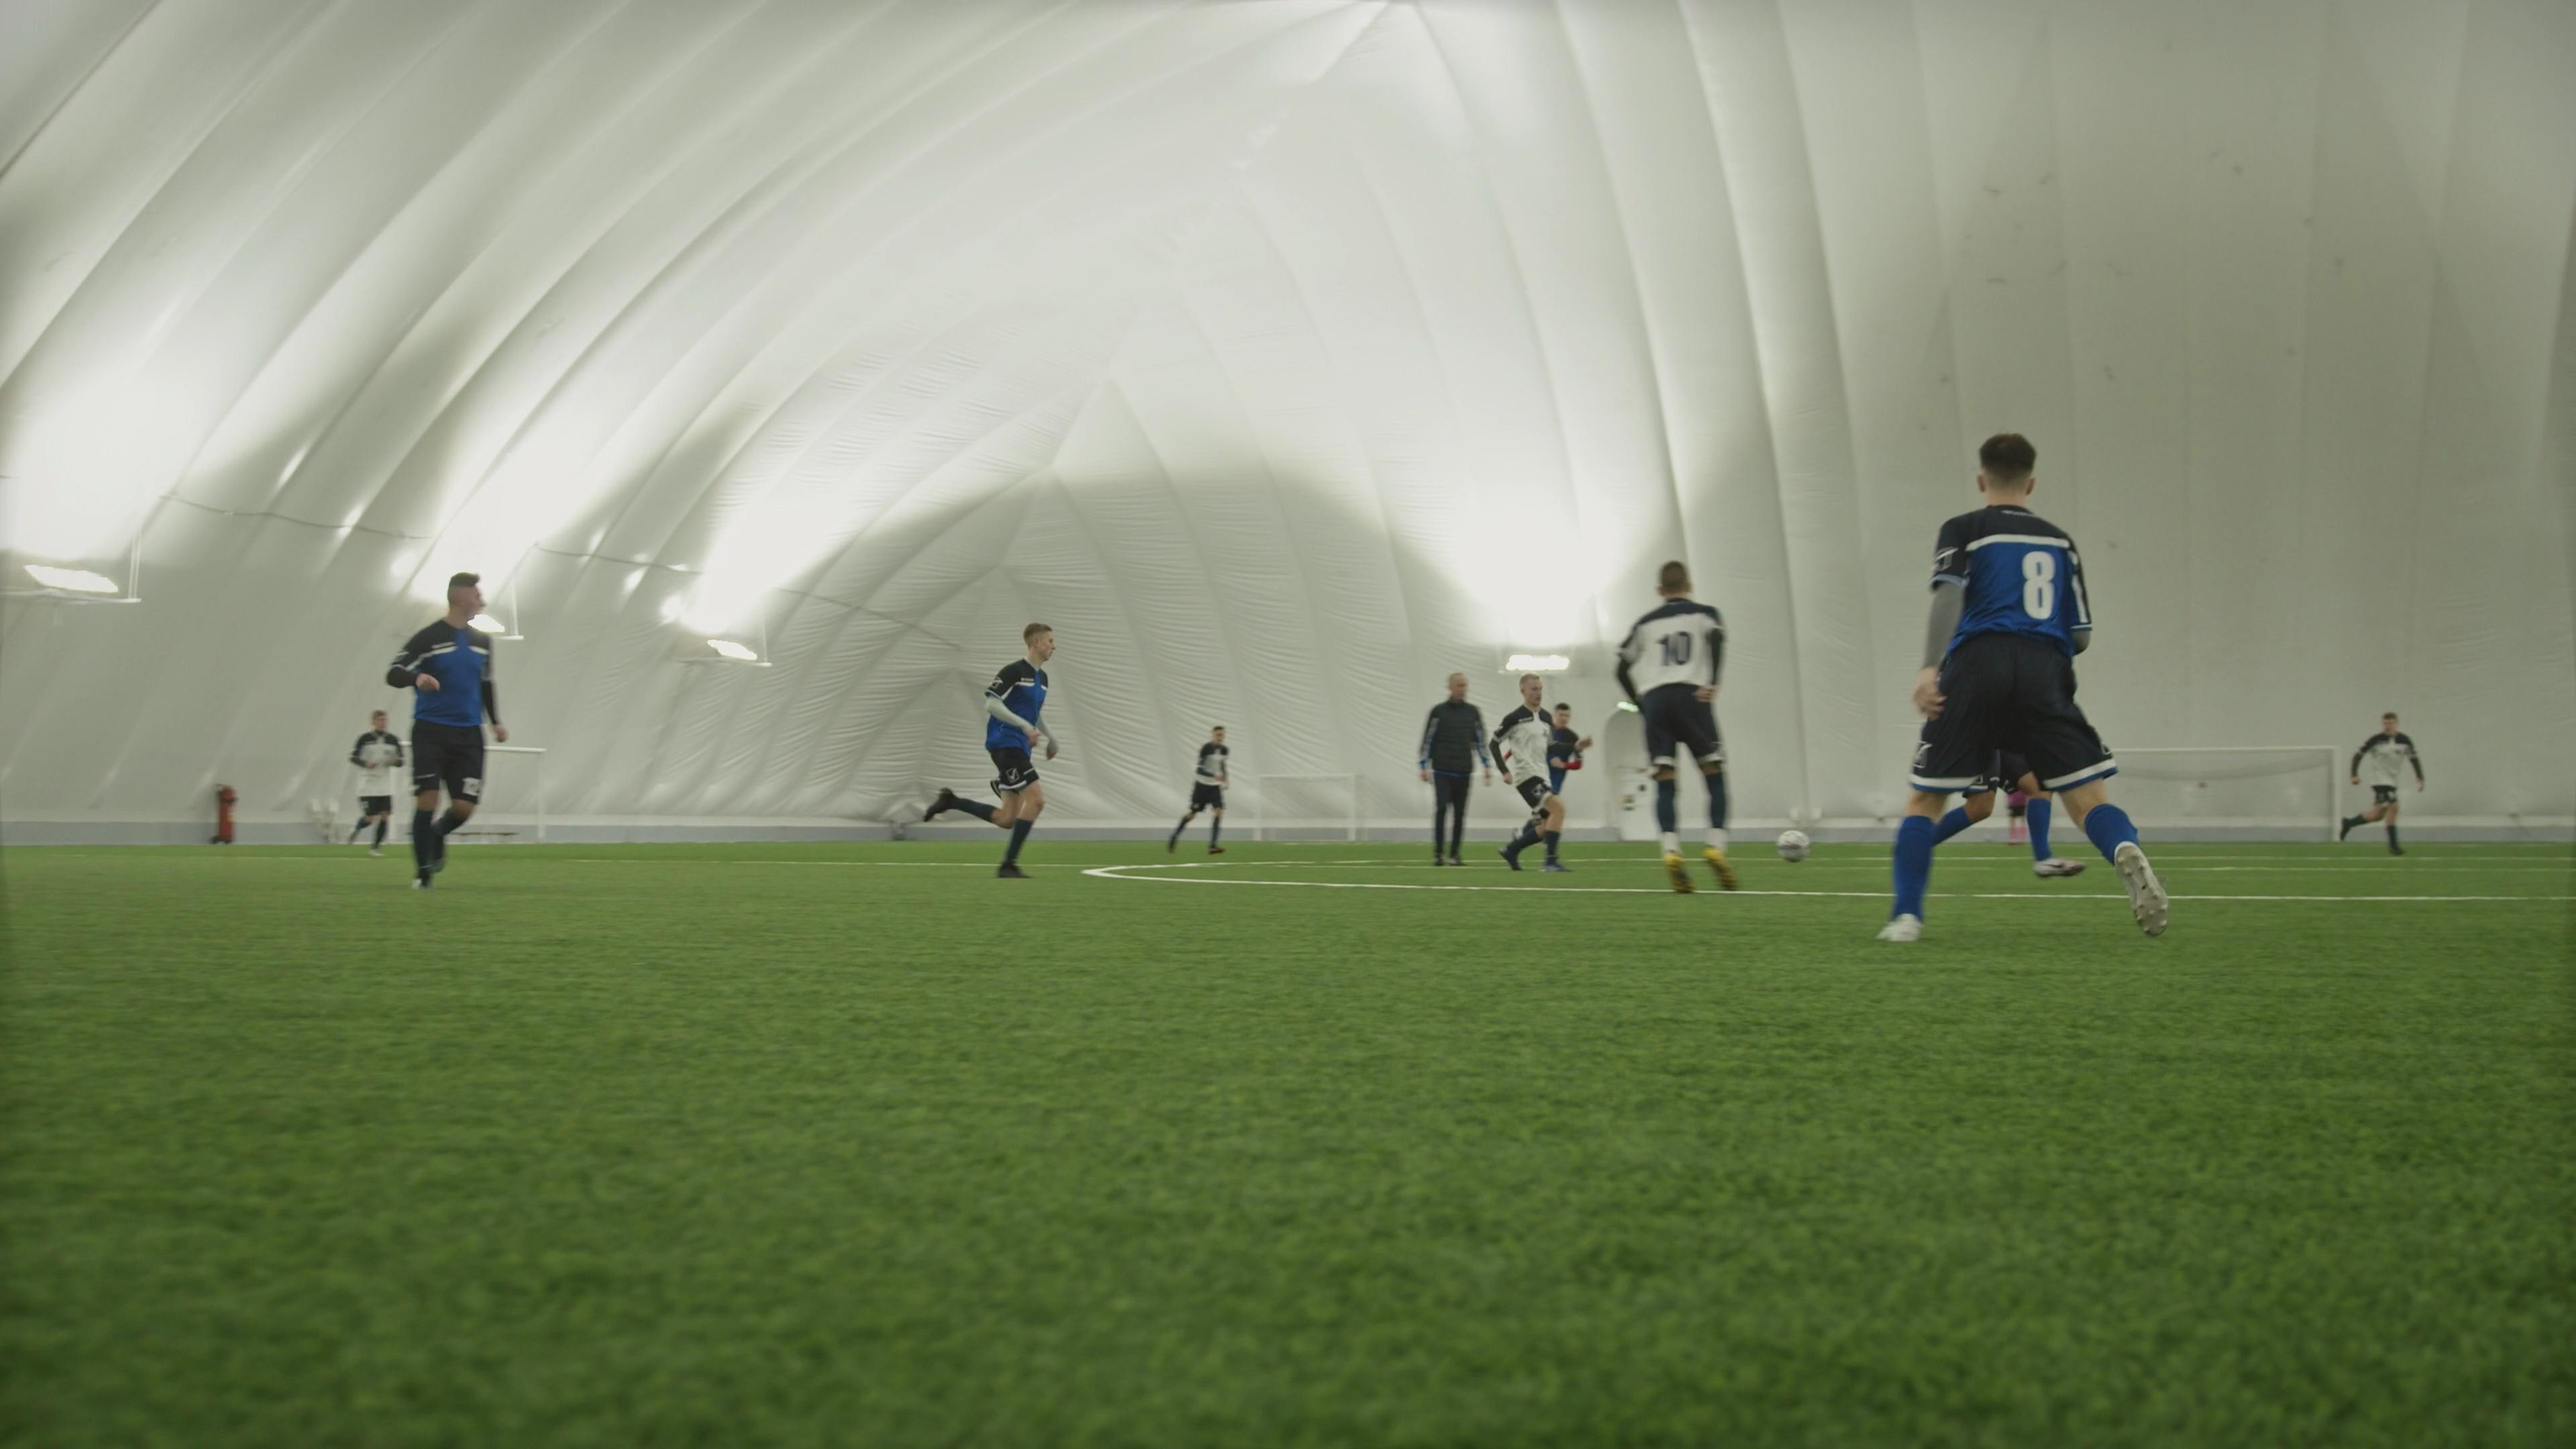other: (1419, 672, 1491, 863)
team1: (1874, 426, 2176, 947), (382, 570, 517, 890), (925, 616, 1060, 881), (1550, 695, 1594, 782)
team1gk: (2006, 778, 2035, 847)
team2: (1615, 557, 1741, 892), (1491, 672, 1575, 874), (2341, 711, 2424, 858), (1164, 722, 1230, 858), (347, 709, 407, 851)
